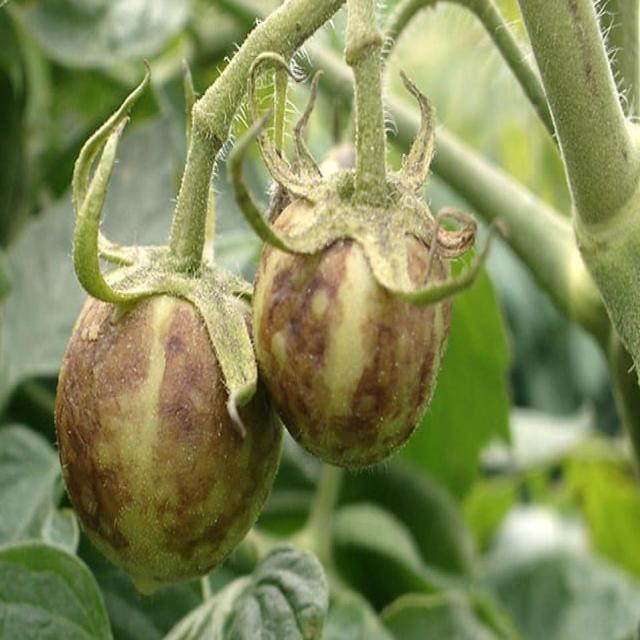Spotted wilt Virus Fruit: (39, 168, 175, 251)
